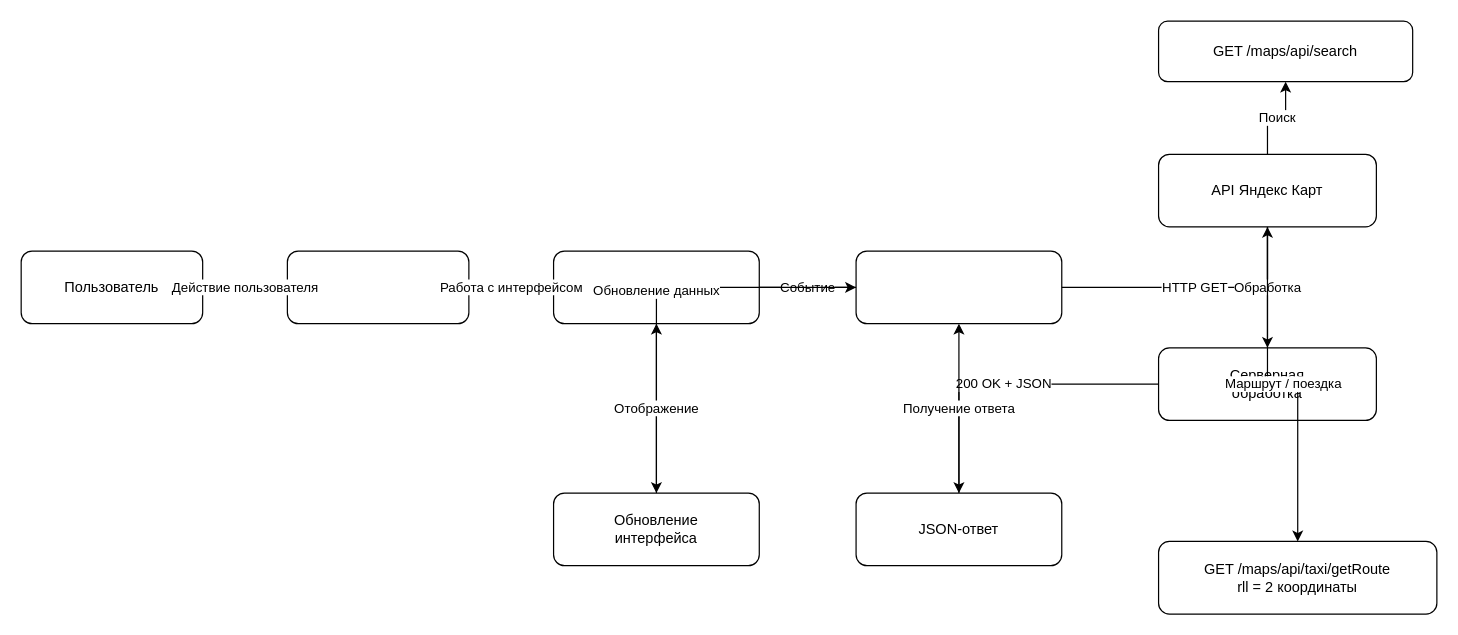
Image size: 1458x635. Some labels were removed from this diagram. The shapes that lost their labels are listed below. From the top down, each one's box as (x1, y1, x2, y2) in pixels, then its label:
(286, 250, 469, 324): Браузер
(552, 250, 759, 324): Интерфейс Яндекс Карт
(855, 250, 1062, 324): JavaScript / Frontend
